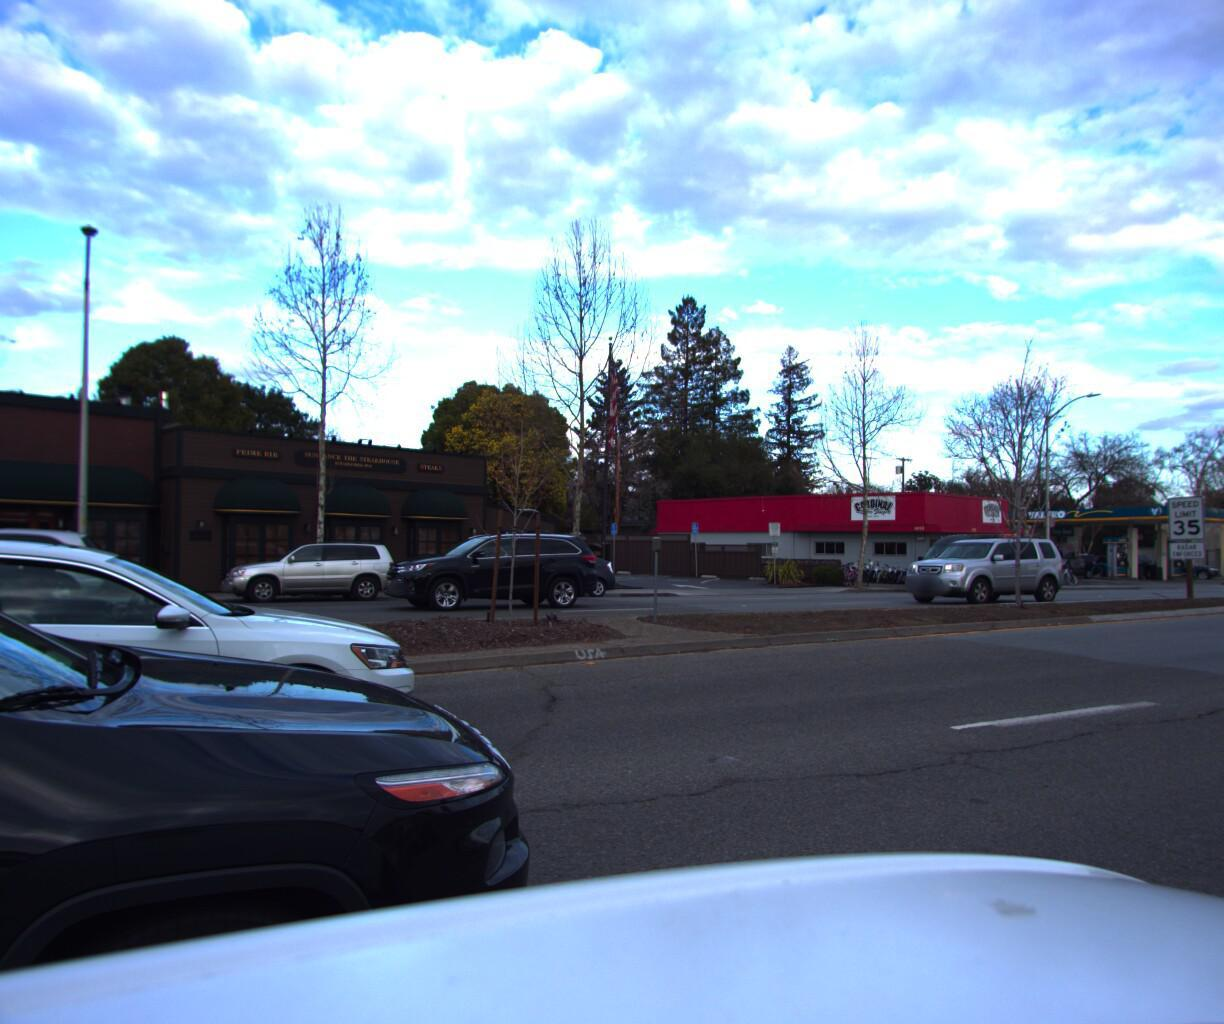bicycle: (824, 551, 853, 580), (835, 553, 863, 581), (863, 552, 889, 578), (884, 552, 910, 578), (877, 552, 902, 578), (871, 552, 896, 578), (857, 552, 882, 577)
car: (0, 0, 618, 1024), (0, 524, 452, 881), (381, 524, 602, 608), (205, 536, 404, 605), (895, 527, 1072, 601), (0, 520, 111, 613), (465, 545, 618, 597), (0, 538, 32, 615), (1141, 550, 1216, 574)
truck: (897, 524, 1028, 586)
